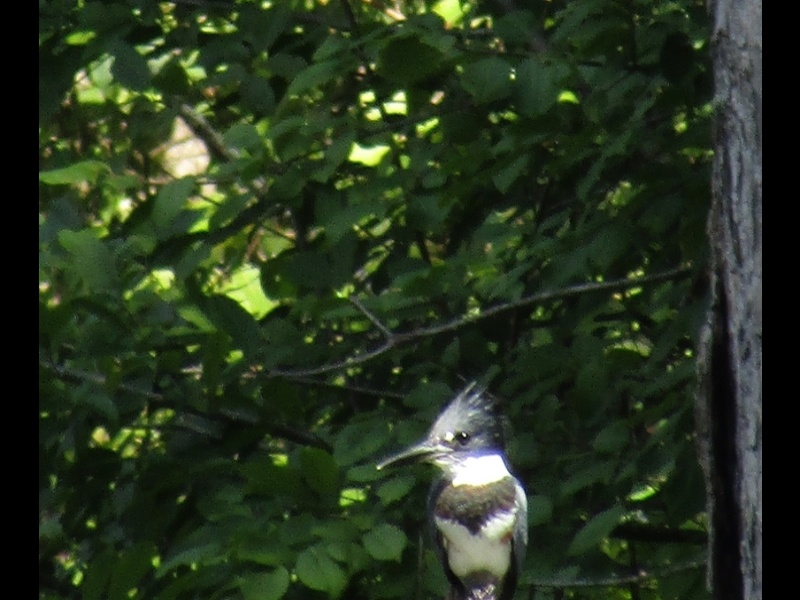kingfisher: (374, 378, 528, 599)
